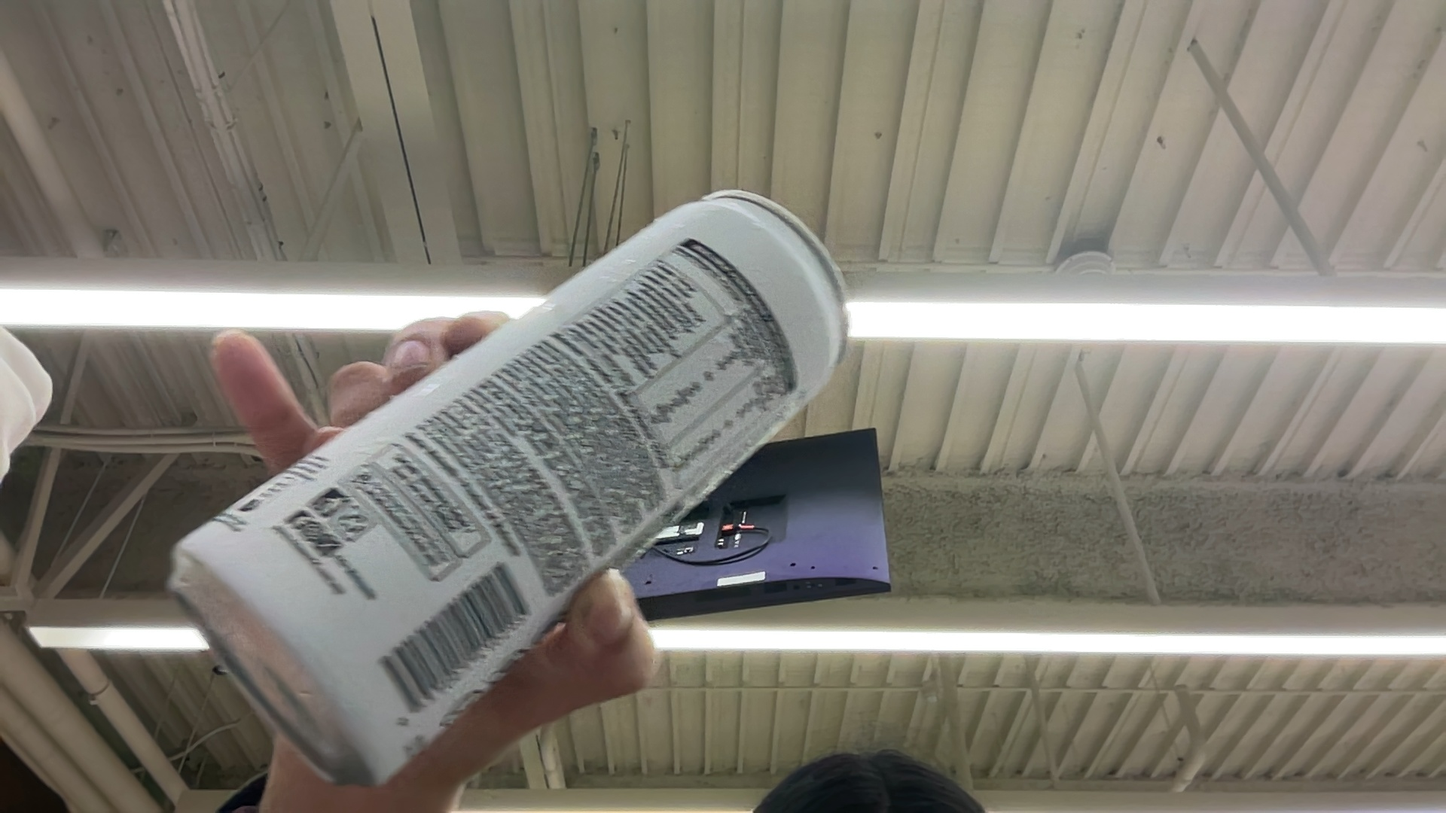Metal: (170, 174, 884, 791)
